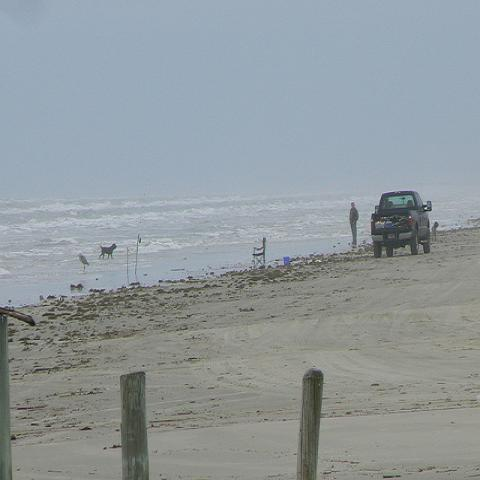truck: (372, 190, 432, 258)
